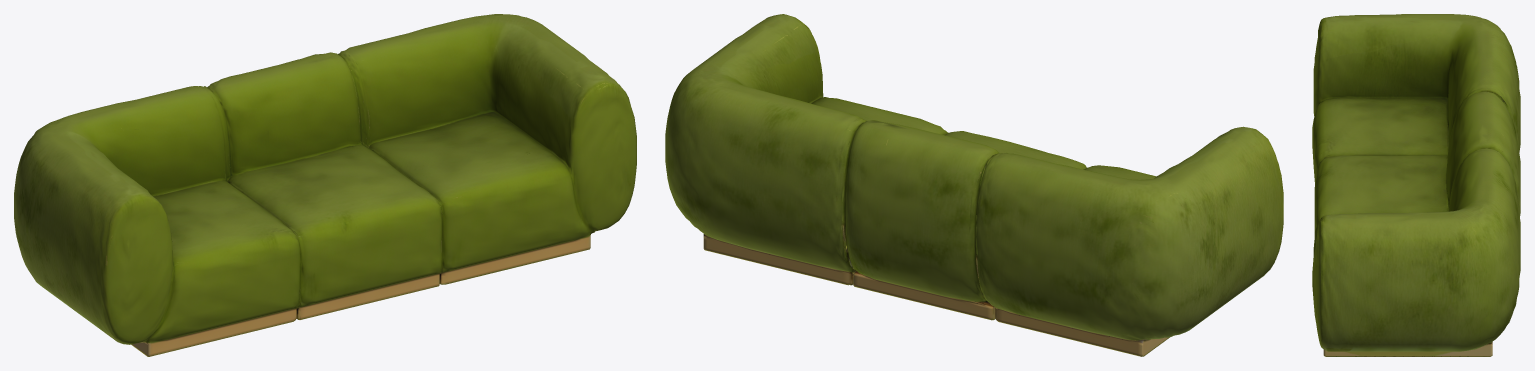
Rendered from green_harmony_sofa_0127182843_texture.glb.
3 views of the same model, side by side, from view 1: azimuth 30°, elevation 25°; view 2: azimuth 150°, elevation 25°; view 3: azimuth 270°, elevation 25° (orthographic). The views are drawn at different scales.
Parts seen in each view (by area): view 1: Mesh_0; view 2: Mesh_0; view 3: Mesh_0.
Part boxes in pixels (x1=…): Mesh_0: x1=14, y1=14, x2=636, y2=356; Mesh_0: x1=665, y1=14, x2=1283, y2=356; Mesh_0: x1=1312, y1=14, x2=1520, y2=356.
Bounding box in the file's own units: 2.73 × 0.8128 × 1.04.
Materials: 1 (1 with a texture image).
